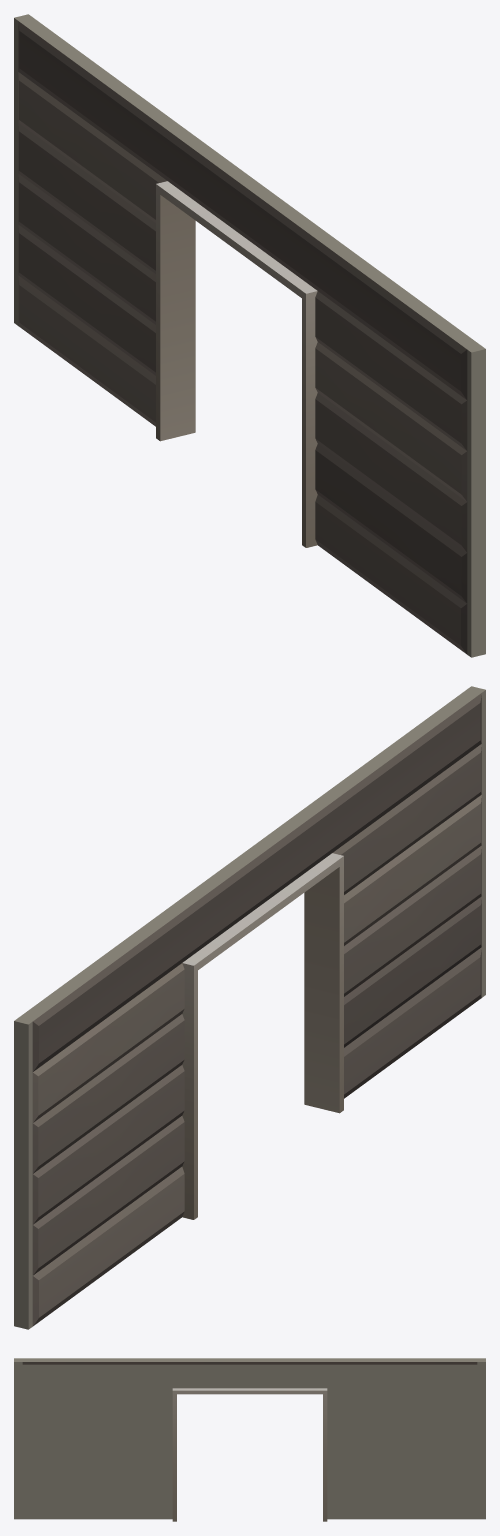
Rendered from TSP_House_Wall_Regular_07B.fbx.
3 views of the same model, one above another, from view 1: azimuth 30°, elevation 25°; view 2: azimuth 150°, elevation 25°; view 3: azimuth 270°, elevation 25° (orthographic). The views are drawn at different scales.
Parts seen in each view (by area): view 1: TSP_House_Wall_Regular_07B; view 2: TSP_House_Wall_Regular_07B; view 3: TSP_House_Wall_Regular_07B.
Boxes of the visible parts, x1,y1,x2,y2 form: TSP_House_Wall_Regular_07B: (14, 14, 485, 657); TSP_House_Wall_Regular_07B: (14, 686, 485, 1329); TSP_House_Wall_Regular_07B: (14, 1358, 485, 1521).
Size of the model in its own units: 0.365 by 3 by 8.15.
